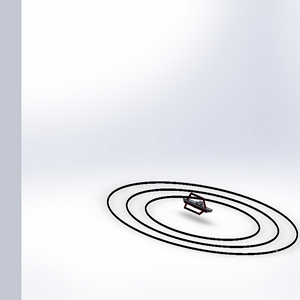circle: (95, 178, 299, 259)
submarine: (176, 190, 217, 227)
